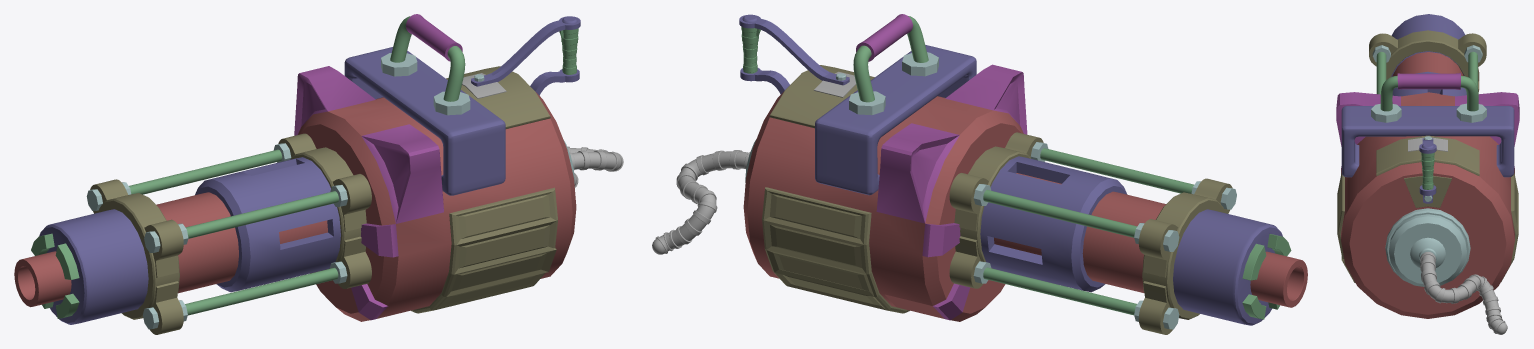
The model's file is Catlin.fbx.
3 renders of one model, left to right at view 1: azimuth 30°, elevation 25°; view 2: azimuth 150°, elevation 25°; view 3: azimuth 270°, elevation 25°, orthographic. The views are drawn at different scales.
Parts seen in each view (by area): view 1: polySurface19, polySurface2, polySurface14, pPlane27, polySurface11, pCylinder3_polySurface4_polySurface8, pCylinder2, polySurface3, polySurface12, pCylinder4, pCylinder45, pCylinder42 (+11 smaller); view 2: polySurface19, polySurface2, polySurface14, pPlane27, polySurface11, pCylinder3_polySurface4_polySurface8, pCylinder2, pCylinder33, polySurface12, polySurface3, pCylinder42, pCylinder40 (+11 smaller); view 3: polySurface19, pPlane27, pCylinder33, polySurface3, polySurface11, pCylinder2, polySurface16, polySurface14, pCylinder3_polySurface4_polySurface8, polySurface15, polySurface20, polySurface2 (+10 smaller).
Boxes of the visible parts, box(x1,y1,x2,y2) form: polySurface19: box(294, 66, 576, 321); polySurface2: box(195, 157, 340, 292); polySurface14: box(411, 187, 557, 313); pPlane27: box(344, 47, 505, 195); polySurface11: box(39, 209, 148, 324); pCylinder3_polySurface4_polySurface8: box(90, 133, 371, 334); pCylinder2: box(156, 192, 327, 293); polySurface3: box(97, 193, 179, 319); polySurface12: box(14, 251, 71, 307); pCylinder4: box(185, 191, 338, 238); pCylinder45: box(185, 267, 338, 315); pCylinder42: box(129, 149, 282, 194); polySurface19: box(743, 64, 1027, 321); polySurface2: box(980, 156, 1127, 292); polySurface14: box(762, 187, 909, 313); pPlane27: box(815, 45, 976, 195); polySurface11: box(1173, 209, 1282, 325); pCylinder3_polySurface4_polySurface8: box(949, 132, 1232, 334); pCylinder2: box(994, 173, 1165, 292); pCylinder33: box(652, 150, 750, 254); polySurface12: box(1250, 251, 1307, 307); polySurface3: box(1142, 192, 1225, 319); pCylinder42: box(983, 190, 1137, 237); pCylinder40: box(983, 267, 1136, 315); polySurface19: box(1336, 92, 1519, 318); pPlane27: box(1341, 106, 1514, 177); pCylinder33: box(1420, 252, 1507, 334); polySurface3: box(1386, 30, 1468, 79); polySurface11: box(1391, 14, 1465, 76); pCylinder2: box(1392, 52, 1463, 94); polySurface16: box(1397, 73, 1460, 89); polySurface14: box(1337, 173, 1518, 282); pCylinder3_polySurface4_polySurface8: box(1369, 33, 1486, 92); polySurface15: box(1380, 75, 1478, 111); polySurface20: box(1404, 176, 1451, 207); polySurface2: box(1392, 71, 1466, 96).
Size of the model in its own units: 10.98 by 4.67 by 3.58.
